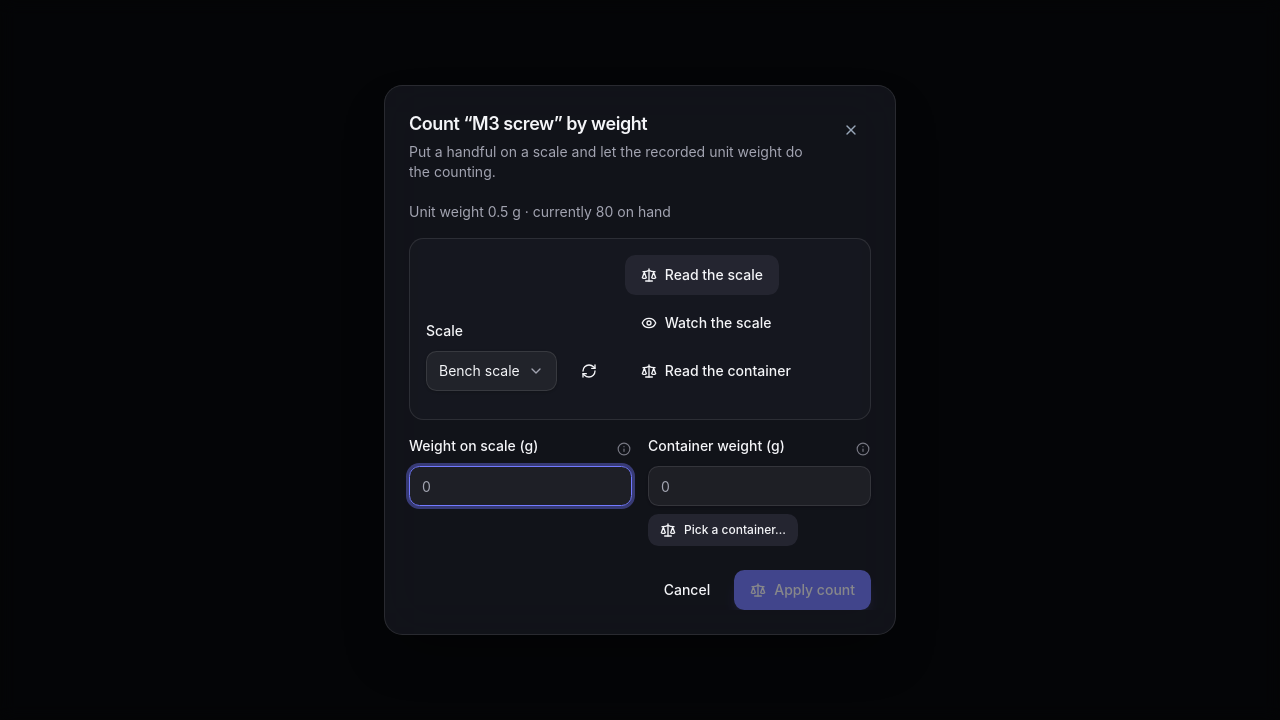
Test case: ScaleReadPanel (issue #122) › reads the scale and fills the gross field in the user’s weight unit
Click the button with test id "scale-read".
click(702, 275)  # box [625,255,779,295]
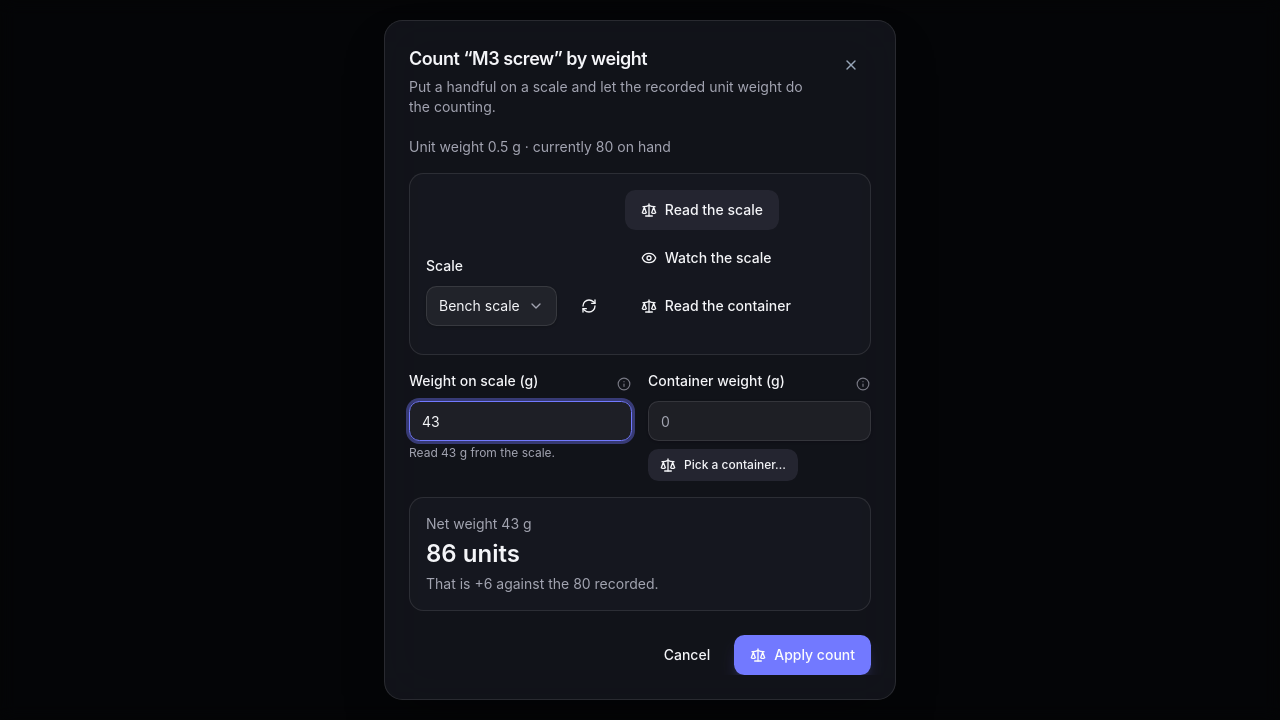
Expected: the field labelled "Weight on scale (g) Read 43 g from the scale." holds "43", [409,401,632,441]
Expected: the text with test id "weigh-count-result" reads "86 units", [426,539,520,568]
Expected: the text with test id "weigh-count-scale-source" shows "43 g", [409,445,555,460]
